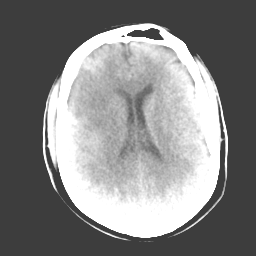ischemic: (73, 69, 125, 199)
